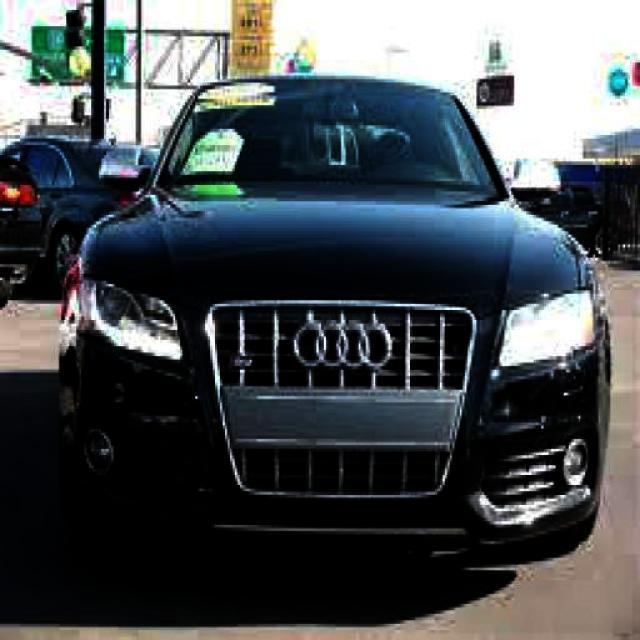car damage: (114, 370, 223, 462), (484, 357, 598, 430)
